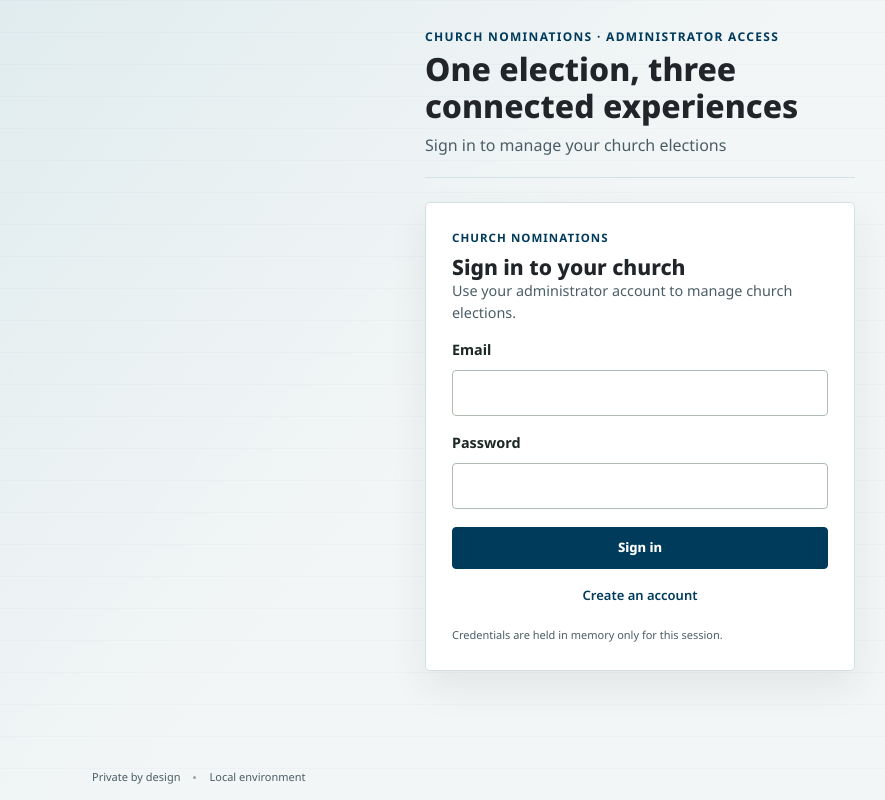
Test: election administration › registers an account without authenticating or requesting election data
Click the button "Create an account" at (640, 595), box [452,578,828,613]
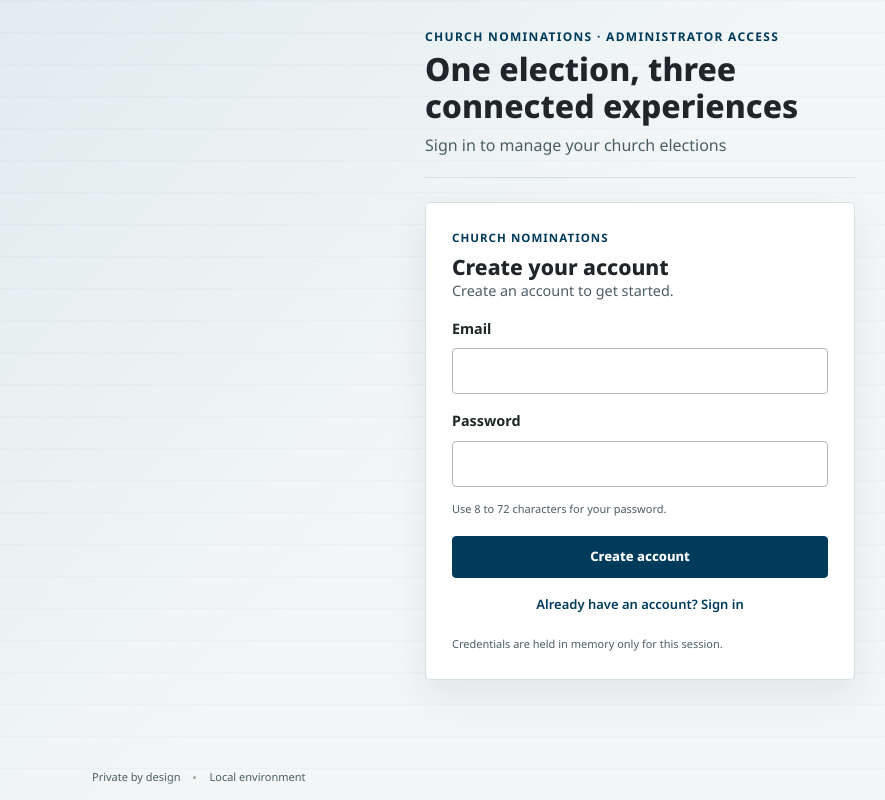
Type "admin@example.com" into the field labelled "Email" at (640, 372), box [452,348,828,394]
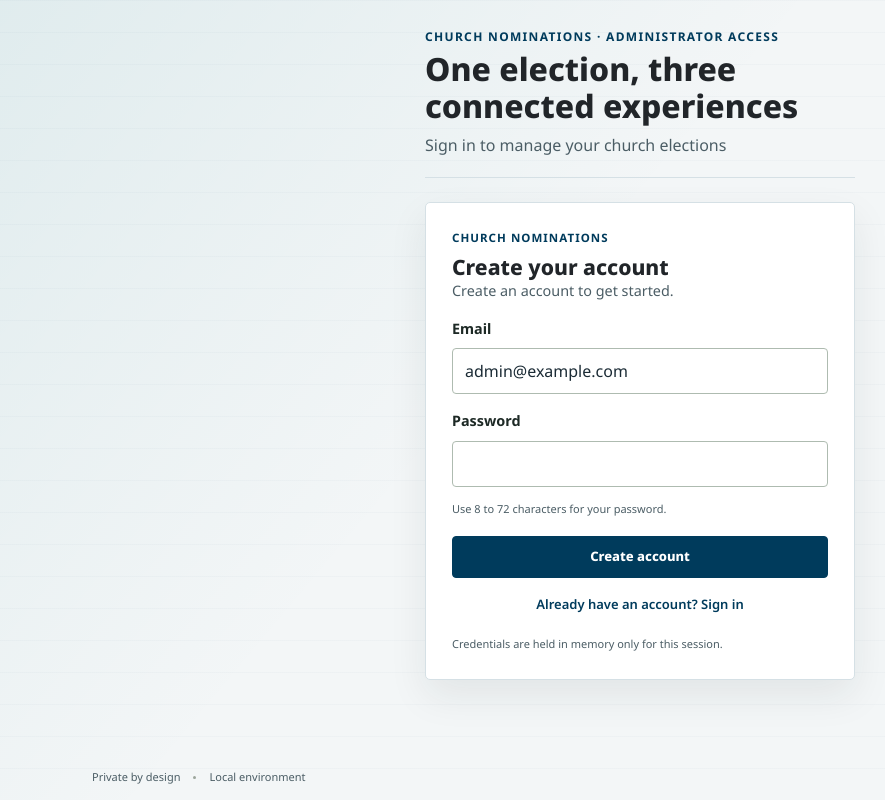
Type "secure-password-123" into the password field labelled "Password" at (640, 464), box [452,441,828,487]
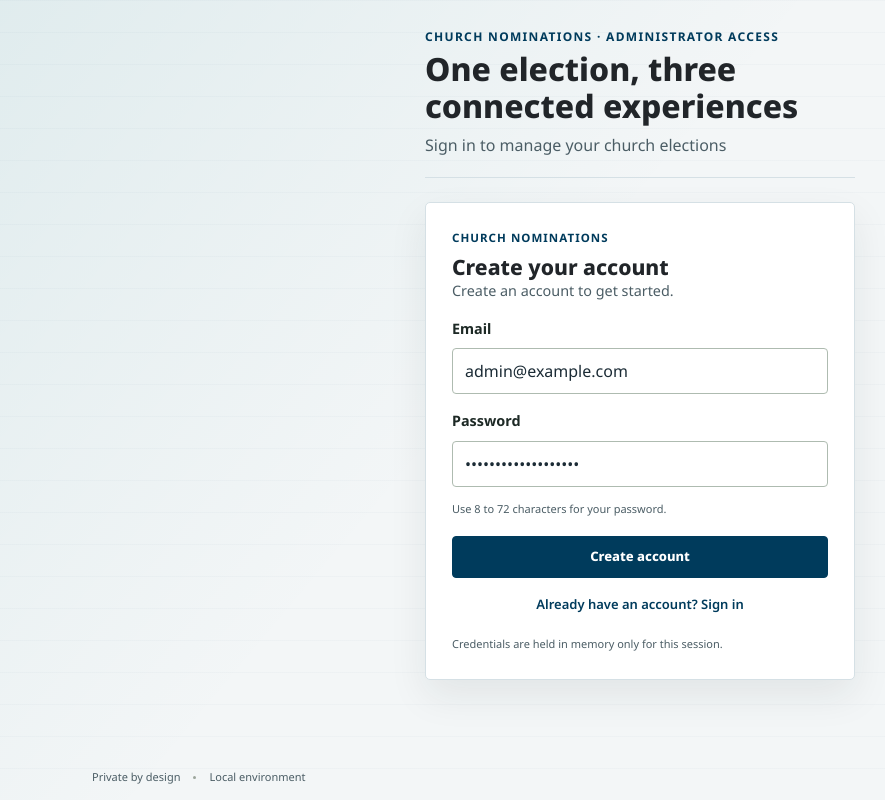
Click the button "Create account" at (640, 557), box [452,536,828,578]
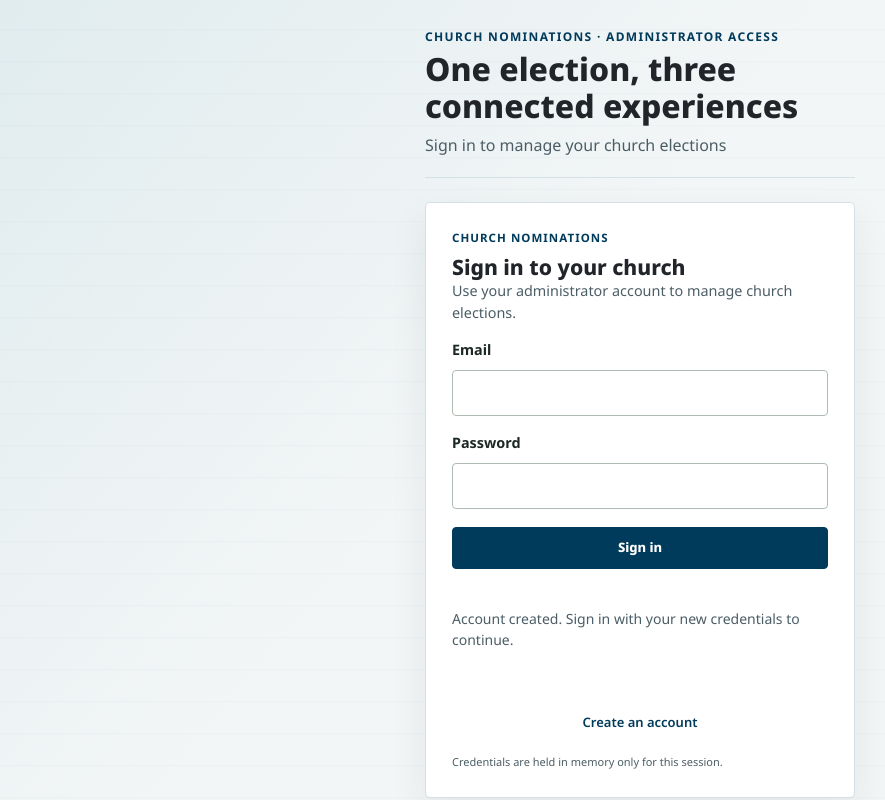
Expected: the message shows "Account created. Sign in", [452,609,800,649]
Expected: the text "Use 8 to 72 characters for your password." is gone
Expected: the heading "Sign in to your church" is shown, [452,252,686,281]
